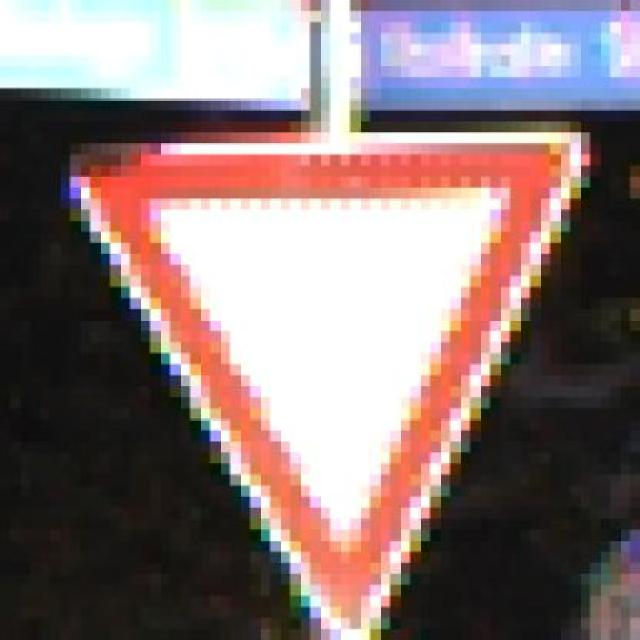Give Way: (66, 129, 606, 637)
